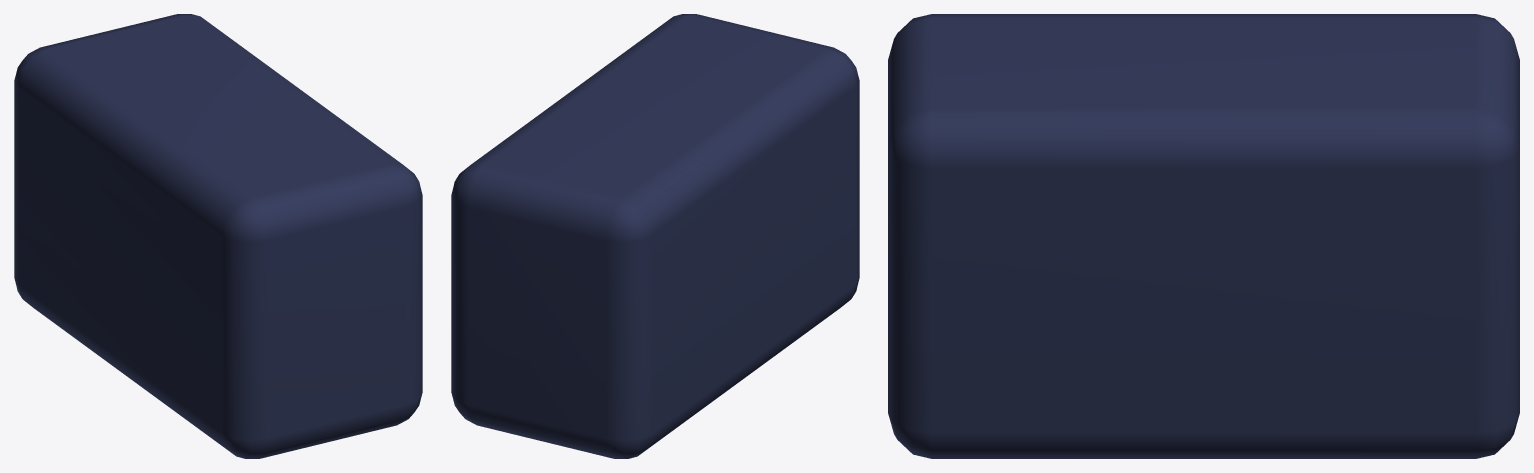
The model's file is model_Board_Outside_1.fbx.
The picture shows the model from 3 angles, left to right: view 1: azimuth 30°, elevation 25°; view 2: azimuth 150°, elevation 25°; view 3: azimuth 270°, elevation 25°; orthographic projection. The views are drawn at different scales.
Visible parts, largest first — view 1: model_Board_Outside_1; view 2: model_Board_Outside_1; view 3: model_Board_Outside_1.
Boxes of the visible parts, x1,y1,x2,y2 form: model_Board_Outside_1: [14, 14, 422, 458]; model_Board_Outside_1: [451, 14, 859, 458]; model_Board_Outside_1: [888, 14, 1519, 458].
Size of the model in its own units: 50 by 62.94 by 104.
